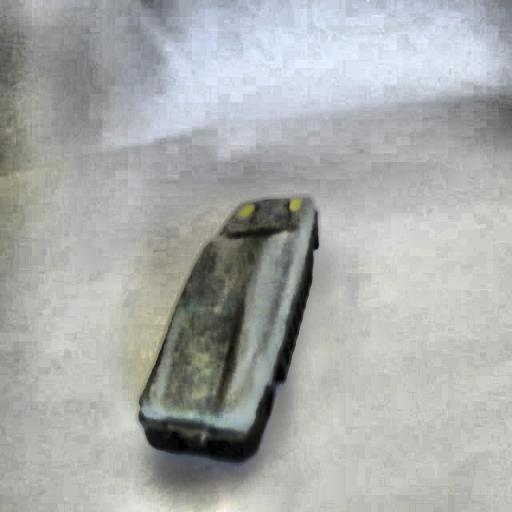normal_car: (133, 190, 323, 464)
